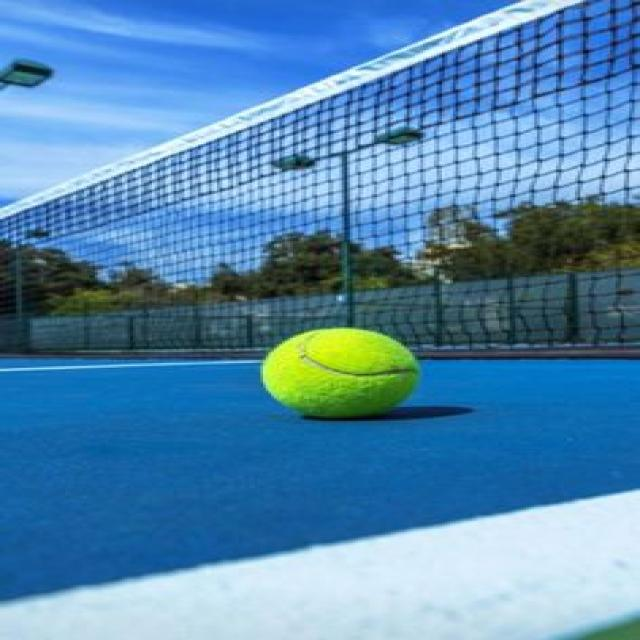tennis: (267, 328, 420, 422)
